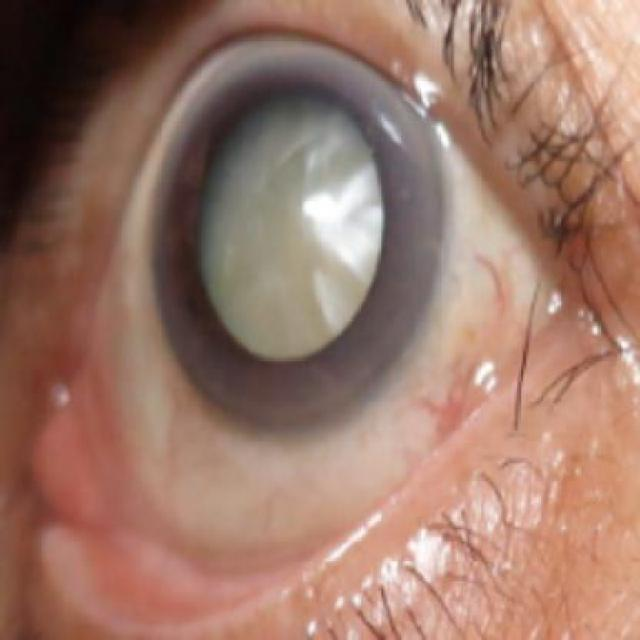Cataract: (152, 43, 437, 433)
